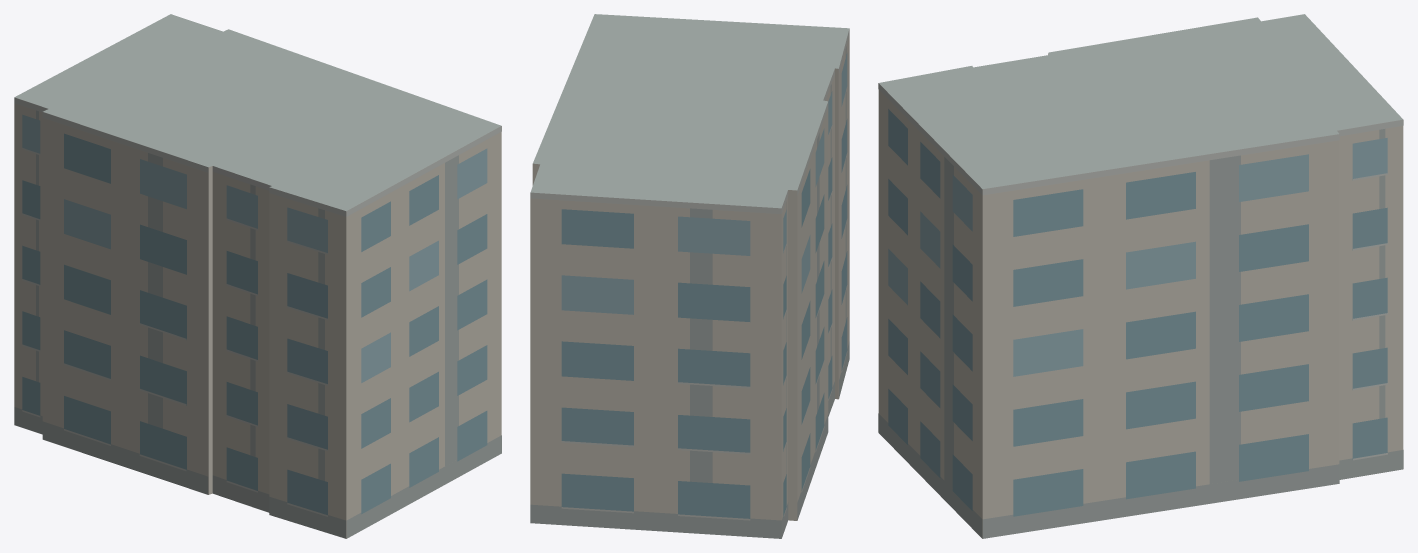
Rendered from survey-upis-32886208.glb.
The picture shows the model from 3 angles, left to right: view 1: azimuth 30°, elevation 25°; view 2: azimuth 150°, elevation 25°; view 3: azimuth 270°, elevation 25°; orthographic projection. The views are drawn at different scales.
Visible parts, largest first — view 1: survey-upis-32886208.tmp; view 2: survey-upis-32886208.tmp; view 3: survey-upis-32886208.tmp.
Part boxes in pixels (box(x1,y1,x2,y2)): survey-upis-32886208.tmp: box(14, 14, 501, 538); survey-upis-32886208.tmp: box(530, 14, 849, 538); survey-upis-32886208.tmp: box(878, 14, 1403, 538).
Bounding box in the file's own units: 14.95 × 13.9 × 18.92.
